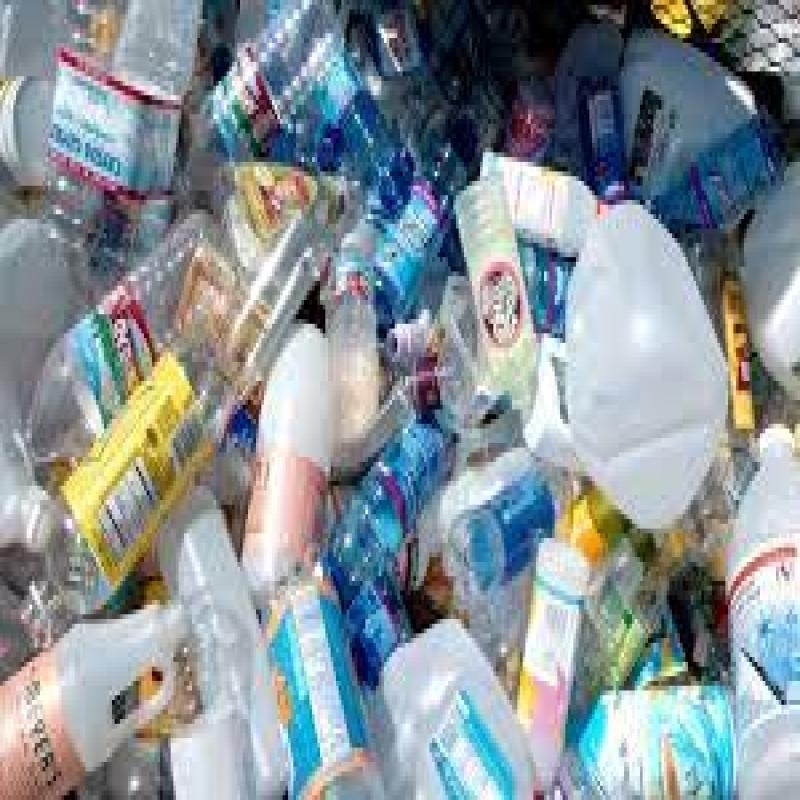botella: (21, 322, 238, 625), (15, 211, 220, 458), (38, 0, 198, 305), (167, 0, 353, 220), (326, 389, 455, 595), (455, 165, 551, 417), (212, 198, 331, 394), (448, 442, 571, 604), (660, 110, 796, 256), (308, 27, 414, 214), (371, 136, 465, 318), (326, 203, 380, 438), (327, 546, 412, 671)
